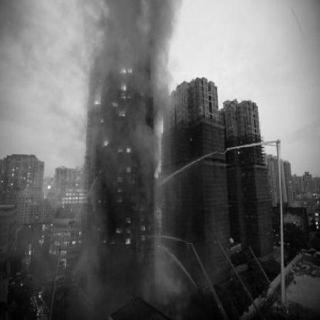Fire: (92, 65, 146, 248)
Smoke: (79, 1, 175, 71)
